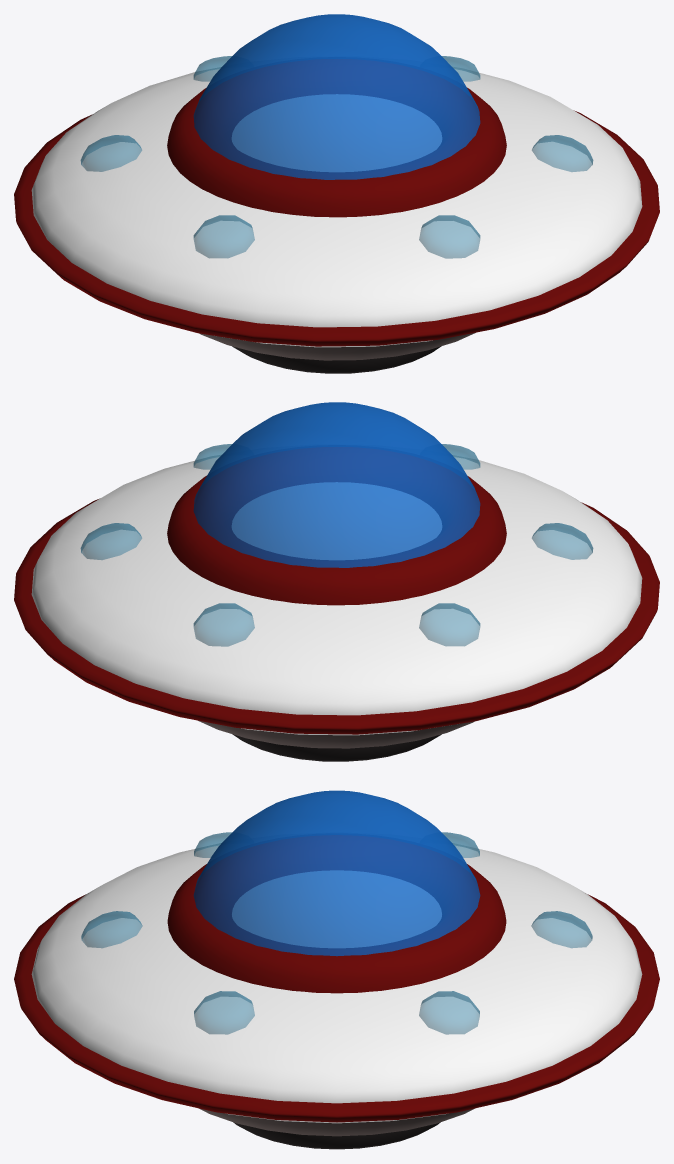
Rendered from ufo2.obj.
The picture shows the model from 3 angles, top to bottom: view 1: azimuth 30°, elevation 25°; view 2: azimuth 150°, elevation 25°; view 3: azimuth 270°, elevation 25°; orthographic projection.
Parts seen in each view (by area): view 1: ufo; view 2: ufo; view 3: ufo.
Part boxes in pixels (left/top/right/bottom): ufo: left=14, top=14, right=659, bottom=373; ufo: left=14, top=402, right=659, bottom=761; ufo: left=14, top=790, right=659, bottom=1149.
Bounding box in the file's own units: 4.21 × 2.14 × 4.21.
